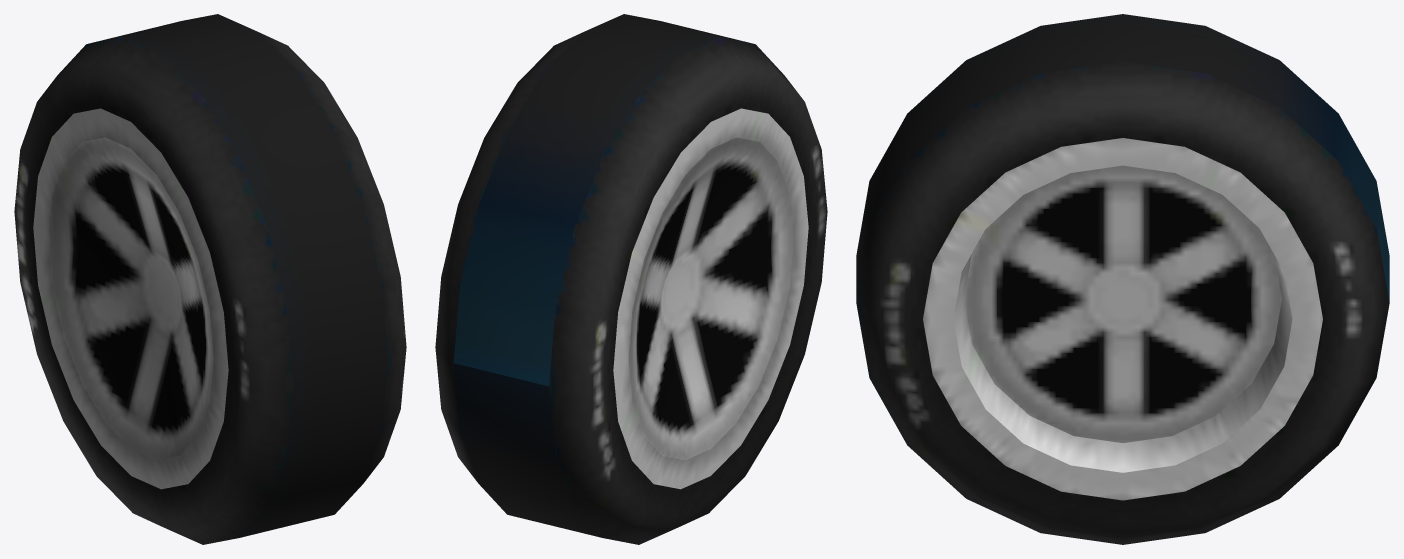
Rendered from wheel_front_right.glb.
The picture shows the model from 3 angles, left to right: view 1: azimuth 30°, elevation 25°; view 2: azimuth 150°, elevation 25°; view 3: azimuth 270°, elevation 25°; orthographic projection. The views are drawn at different scales.
Visible parts, largest first — view 1: tire_fr; view 2: tire_fr; view 3: tire_fr.
Boxes of the visible parts, x1,y1,x2,y2 form: tire_fr: (14, 14, 406, 544); tire_fr: (435, 14, 827, 544); tire_fr: (856, 14, 1389, 544).
Size of the model in its own units: 0.188 by 0.533 by 0.533.
Materials: 1 (1 with a texture image).
